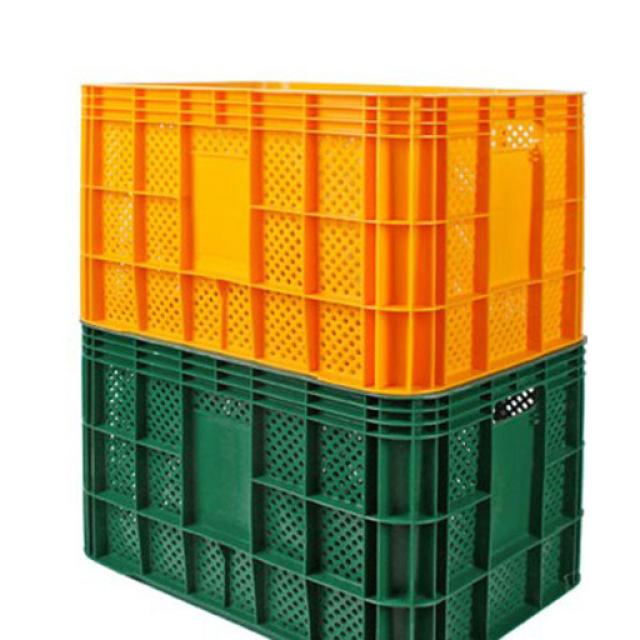basket: (81, 82, 587, 640), (83, 82, 584, 395)
